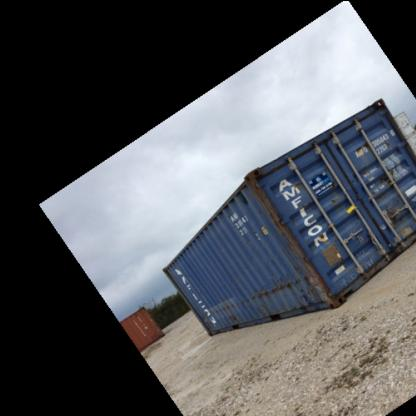Damage: (250, 174, 298, 226), (249, 274, 311, 302), (329, 260, 356, 286), (370, 167, 404, 187), (355, 240, 377, 270), (214, 292, 236, 320), (326, 178, 342, 206), (353, 136, 375, 154), (314, 226, 330, 243)
